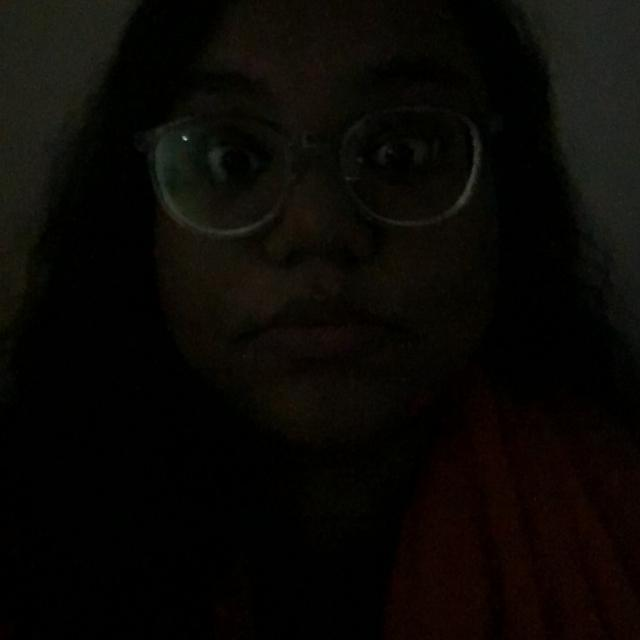Surprised: (75, 38, 563, 528)
